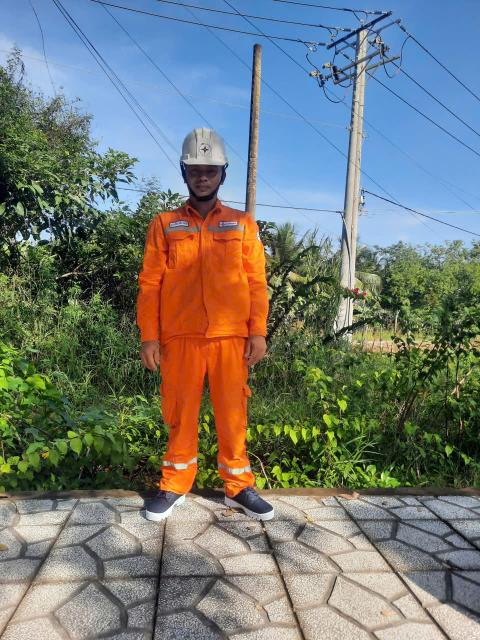helmet: (183, 118, 229, 180)
shoes: (141, 474, 188, 531), (227, 475, 273, 528)
